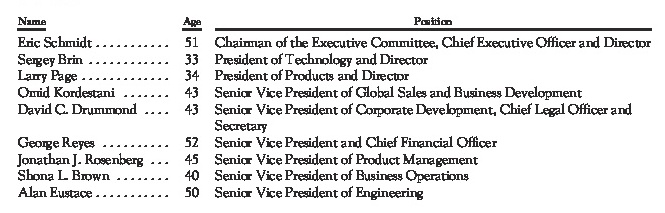table: (0, 0, 665, 213)
